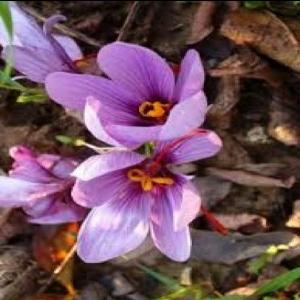Saffron: (75, 132, 218, 262), (46, 34, 209, 145)
